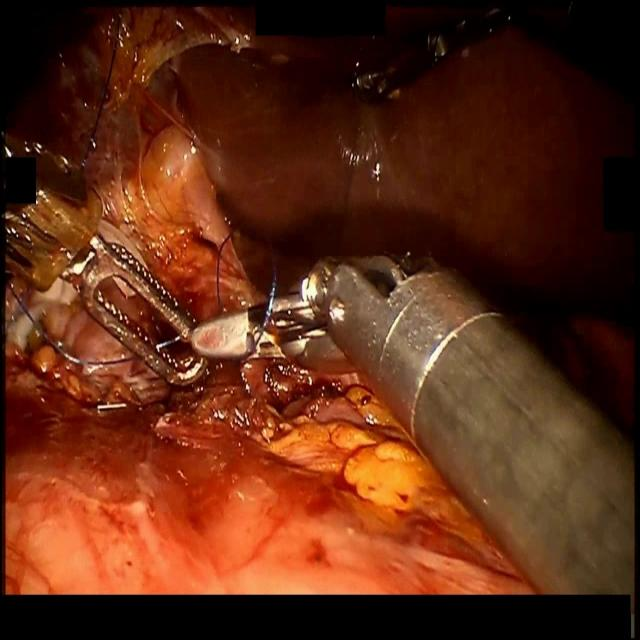surgical-area: (8, 5, 635, 444), (4, 280, 540, 594)
surgical-tool: (5, 137, 635, 594)
